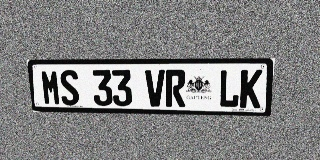3: (92, 70, 113, 106), (112, 70, 132, 106)
K: (239, 70, 263, 108)
L: (218, 70, 241, 108)
M: (40, 70, 61, 105)
R: (166, 70, 186, 107)
S: (59, 70, 80, 105)
V: (145, 70, 165, 107)
